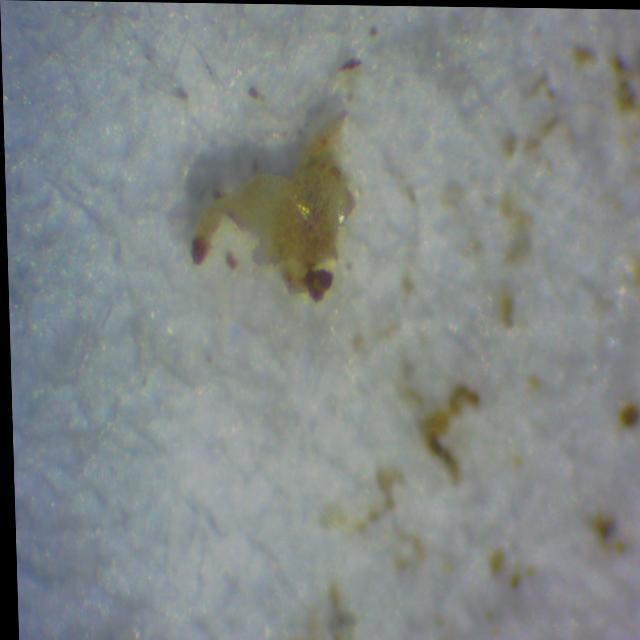microplastic: (194, 108, 352, 304)
